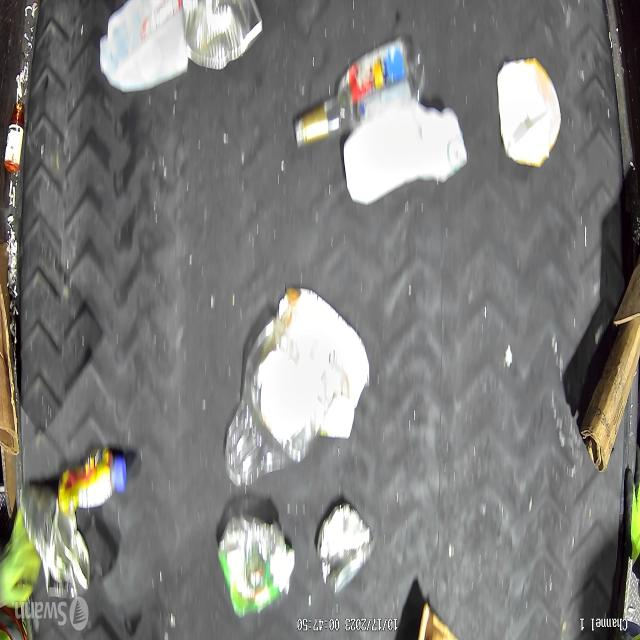can: (183, 0, 264, 71), (316, 501, 374, 595)
milk_jug: (342, 104, 467, 204), (96, 0, 186, 93)
non_white_jug: (497, 58, 561, 170)
plastic_bottle: (299, 37, 423, 141)
